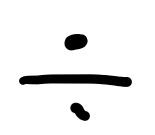div: (20, 34, 131, 121)
